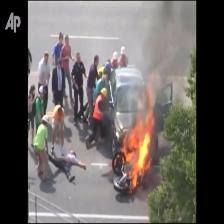fire: (115, 88, 166, 200)
nofire: (91, 76, 109, 131)
